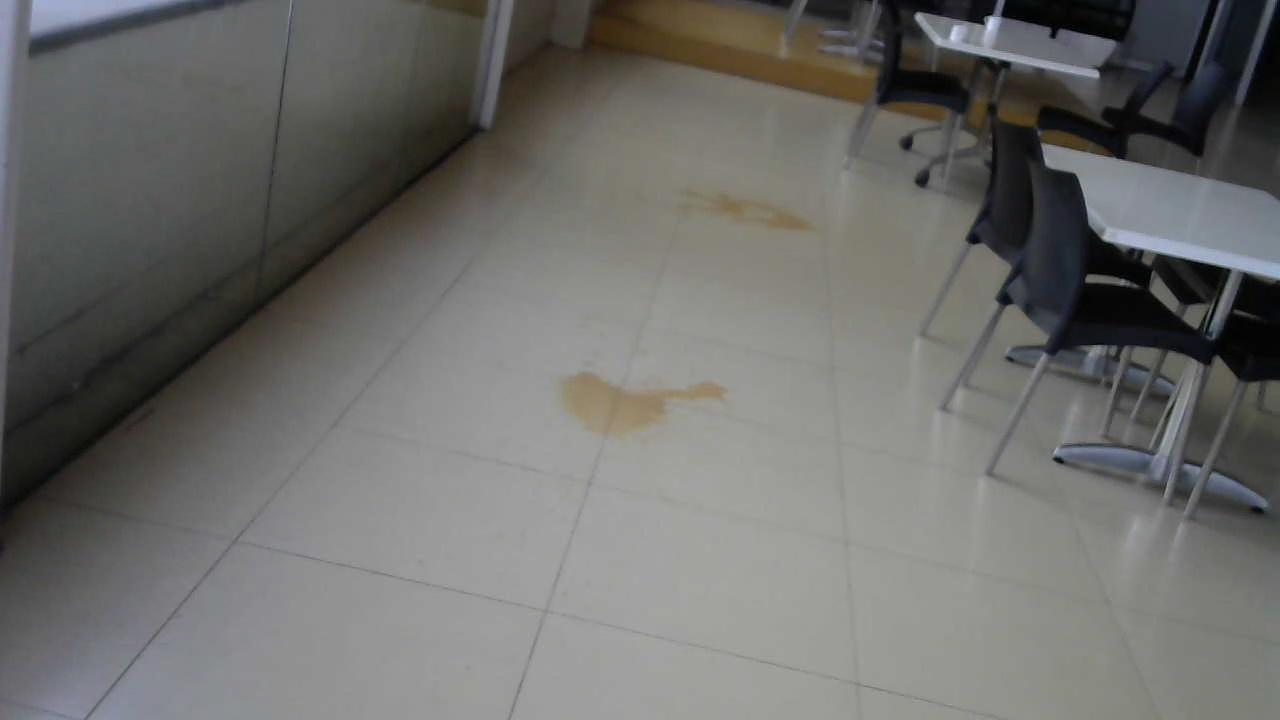dirty_floor: (539, 329, 744, 466)
